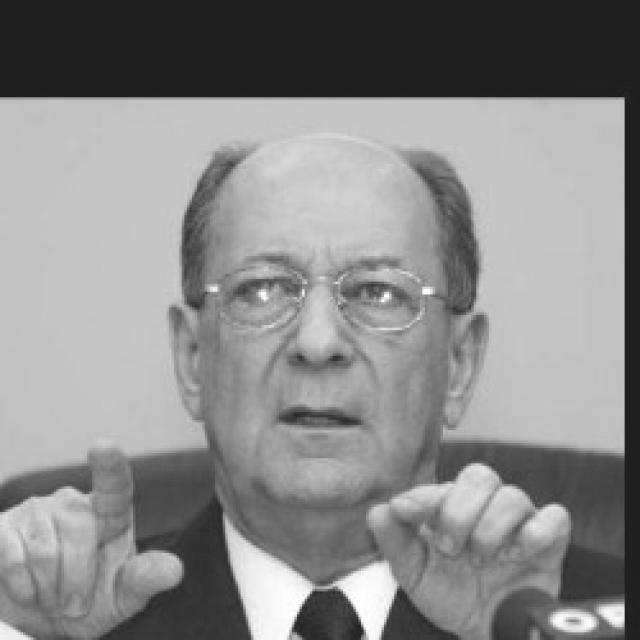real: (192, 131, 472, 526), (227, 263, 416, 328)
